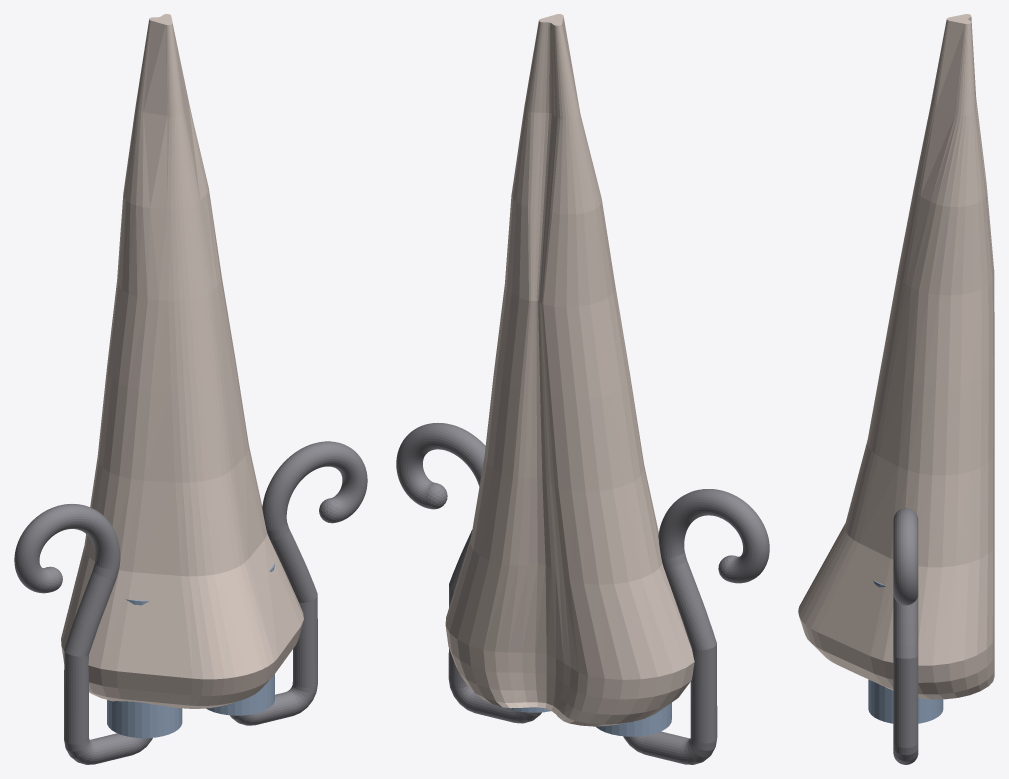
3 renders of one model, left to right at view 1: azimuth 30°, elevation 25°; view 2: azimuth 150°, elevation 25°; view 3: azimuth 270°, elevation 25°, orthographic. The views are drawn at different scales.
Visible parts, largest first — view 1: body, frame_left, frame_right, plug_left, plug_right; view 2: body, frame_left, frame_right, plug_left; view 3: body, frame_right, plug_right.
Boxes of the visible parts, x1,y1,x2,y2 form: body: [61, 14, 303, 708]; frame_left: [14, 504, 152, 764]; frame_right: [230, 441, 367, 725]; plug_left: [107, 599, 182, 738]; plug_right: [206, 563, 274, 715]; body: [445, 14, 694, 726]; frame_left: [623, 489, 769, 764]; frame_right: [396, 423, 541, 723]; plug_left: [596, 702, 671, 736]; body: [798, 14, 994, 699]; frame_right: [893, 508, 918, 764]; plug_right: [868, 580, 943, 723].
Bounding box in the file's own units: 32.08 × 61.3 × 15.7.
